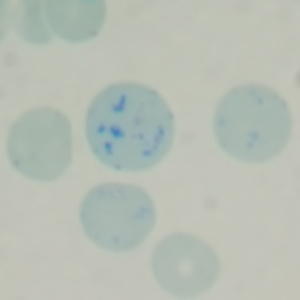aggregate reticulocyte: (83, 81, 177, 174)
erythrocyte: (150, 231, 222, 300)
punctate reticulocyte: (210, 83, 295, 165), (78, 181, 159, 253), (6, 105, 75, 183)
